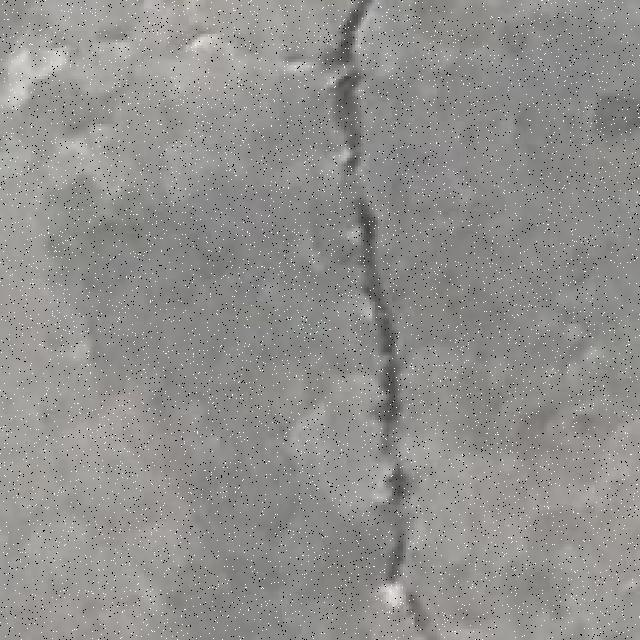Crack: (319, 0, 441, 636)
